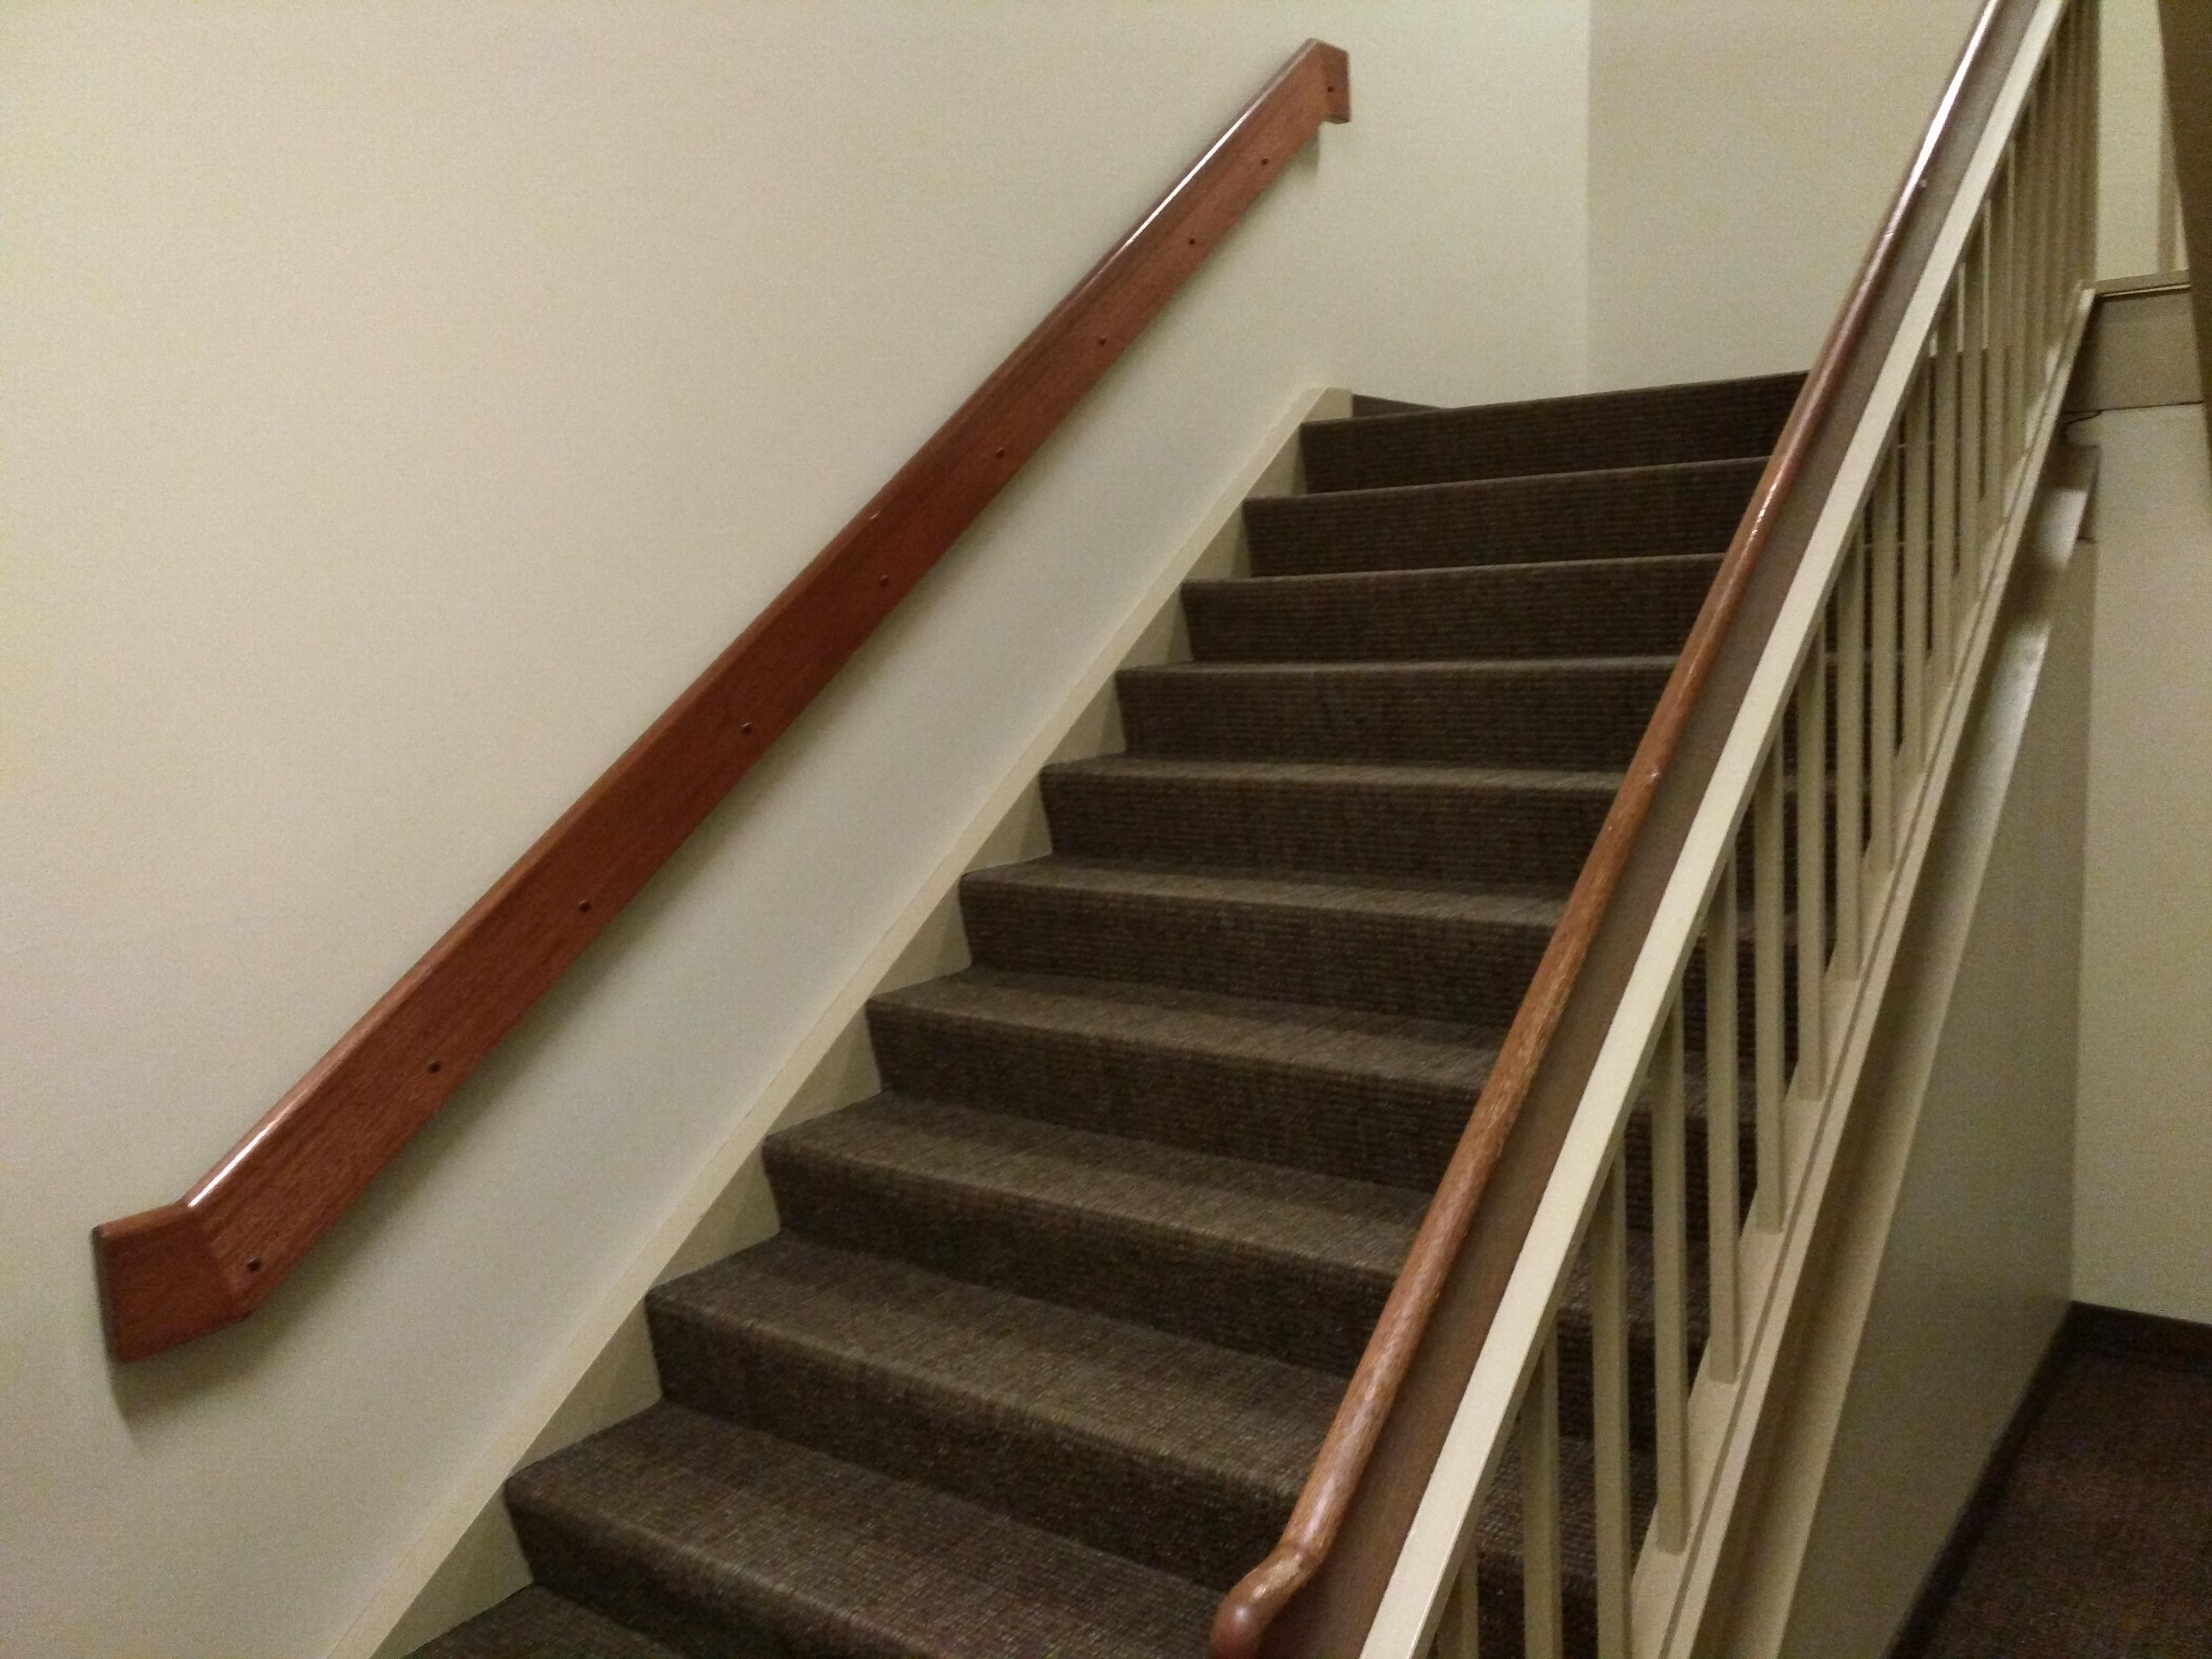stairs_up: (380, 307, 2080, 1659)
